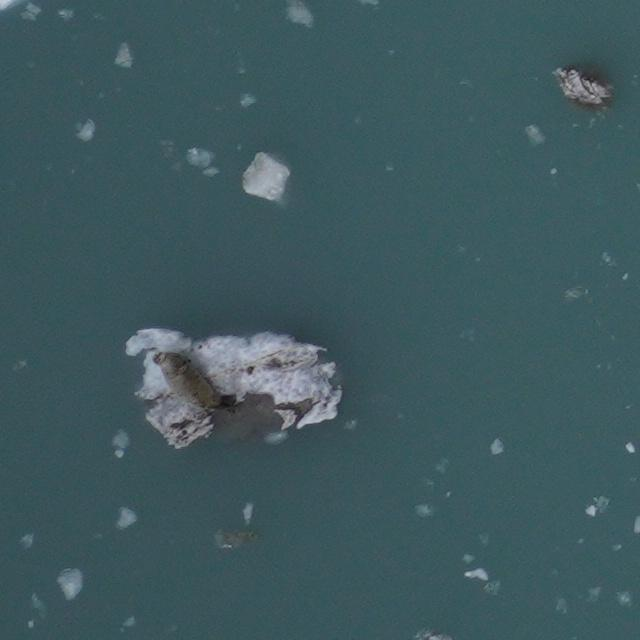seal: (147, 345, 244, 423)
